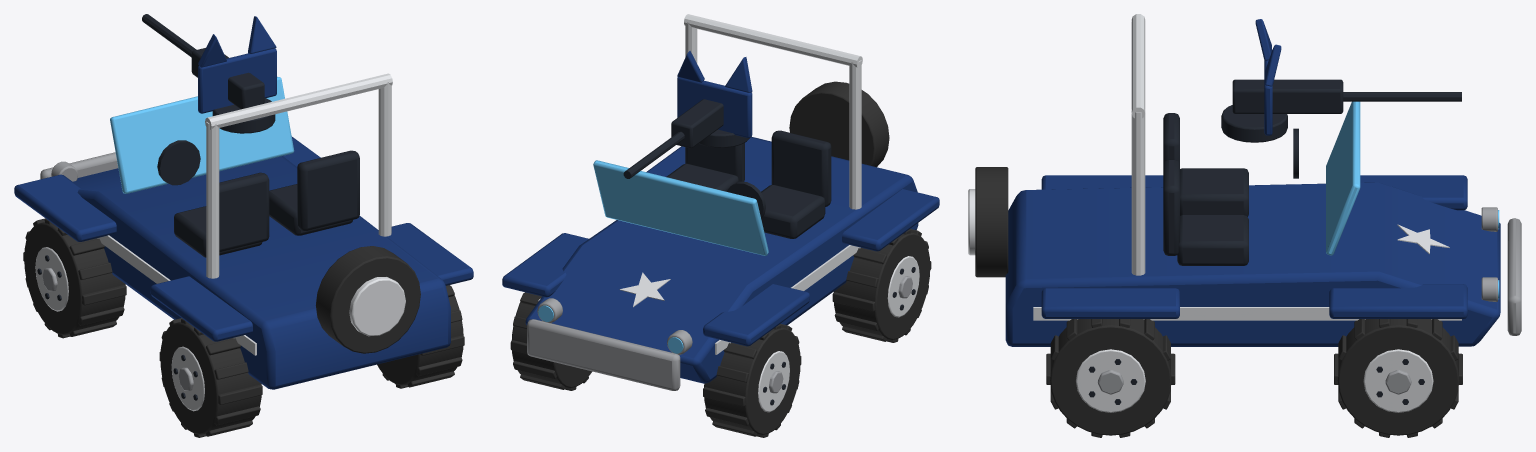
File: shibas_buggy.glb
The picture shows the model from 3 angles, left to right: view 1: azimuth 30°, elevation 25°; view 2: azimuth 150°, elevation 25°; view 3: azimuth 270°, elevation 25°; orthographic projection. The views are drawn at different scales.
Visible parts, largest first — view 1: chassis, windshield, spare, wheel_-1_-0.52, wheel_-1_0.52, seatback_1, fender_-1_0.52, seatback_-1, fender_-1_-0.52, mg_shield, spare_rim, rollbar_top (+19 smaller); view 2: chassis, windshield, bullbar, spare, wheel_-1_0.52, wheel_-1_-0.52, seatback_-1, fender_-1_0.52, fender_-1_-0.52, fender_1_0.52, seat_-1, mg_shield (+18 smaller); view 3: chassis, wheel_1_-0.52, wheel_1_0.52, fender_1_0.52, fender_1_-0.52, spare, mg_body, windshield, seat_1, seat_-1, wheel_1_-0.52_rim, wheel_1_0.52_rim (+12 smaller).
Part boxes in pixels (x1=…): chassis: x1=73, y1=156, x2=450, y2=389; windshield: x1=110, y1=76, x2=294, y2=193; spare: x1=315, y1=246, x2=420, y2=353; wheel_-1_-0.52: x1=160, y1=322, x2=261, y2=434; wheel_-1_0.52: x1=24, y1=222, x2=125, y2=335; seatback_1: x1=297, y1=150, x2=359, y2=230; fender_-1_0.52: x1=14, y1=174, x2=116, y2=241; seatback_-1: x1=219, y1=172, x2=269, y2=252; fender_-1_-0.52: x1=150, y1=276, x2=252, y2=341; mg_shield: x1=198, y1=48, x2=276, y2=113; spare_rim: x1=349, y1=277, x2=405, y2=336; rollbar_top: x1=205, y1=73, x2=392, y2=129; chassis: x1=525, y1=137, x2=918, y2=383; windshield: x1=593, y1=160, x2=768, y2=255; bullbar: x1=527, y1=319, x2=680, y2=390; spare: x1=789, y1=81, x2=889, y2=167; wheel_-1_0.52: x1=704, y1=327, x2=800, y2=434; wheel_-1_-0.52: x1=833, y1=232, x2=930, y2=339; seatback_-1: x1=771, y1=130, x2=831, y2=206; fender_-1_0.52: x1=703, y1=284, x2=809, y2=346; fender_-1_-0.52: x1=842, y1=189, x2=939, y2=251; fender_1_0.52: x1=502, y1=233, x2=588, y2=297; seat_-1: x1=761, y1=185, x2=825, y2=238; mg_shield: x1=677, y1=77, x2=752, y2=137; chassis: x1=1005, y1=182, x2=1500, y2=346; wheel_1_-0.52: x1=1050, y1=319, x2=1171, y2=435; wheel_1_0.52: x1=1337, y1=319, x2=1459, y2=435; fender_1_0.52: x1=1329, y1=284, x2=1467, y2=318; fender_1_-0.52: x1=1041, y1=288, x2=1179, y2=318; spare: x1=975, y1=167, x2=1008, y2=277; mg_body: x1=1232, y1=79, x2=1343, y2=113; windshield: x1=1326, y1=101, x2=1360, y2=255; seat_1: x1=1177, y1=215, x2=1248, y2=265; seat_-1: x1=1180, y1=168, x2=1248, y2=216; wheel_1_-0.52_rim: x1=1076, y1=349, x2=1145, y2=412; wheel_1_0.52_rim: x1=1363, y1=349, x2=1433, y2=412.
Bounding box in the file's own units: 1.15 × 1.37 × 2.
